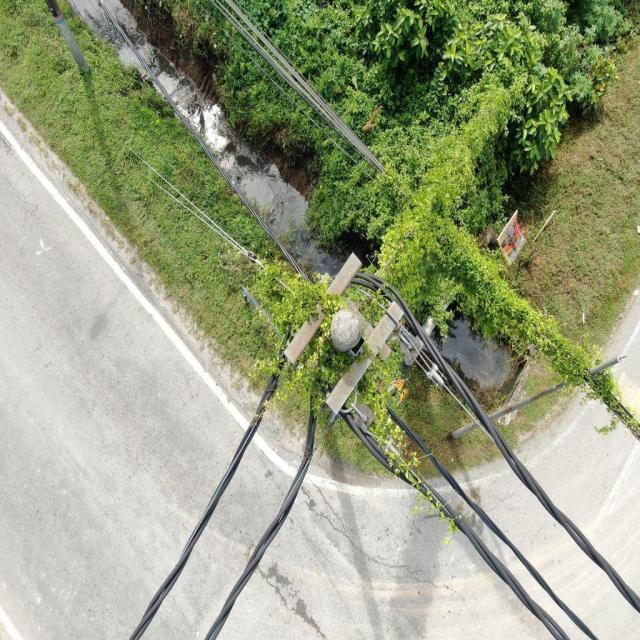critical vegetation: (235, 217, 470, 542)
